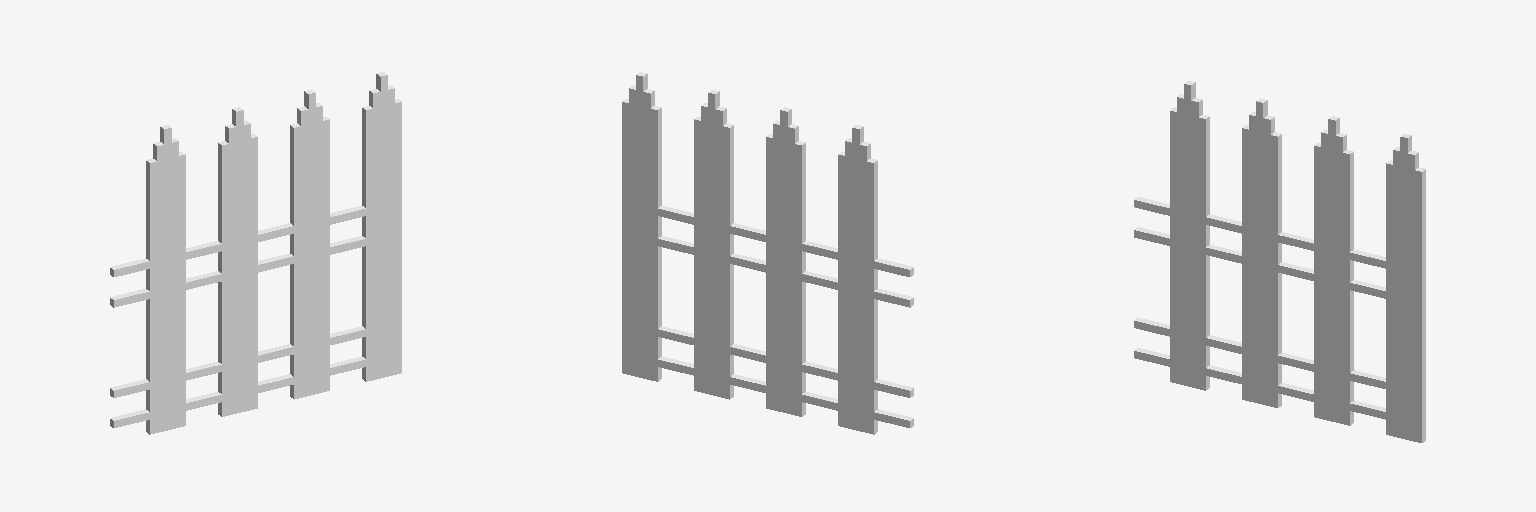
Rendered from barrière.obj.
3 views of the same model, side by side, from view 1: azimuth 30°, elevation 25°; view 2: azimuth 150°, elevation 25°; view 3: azimuth 330°, elevation 25° (orthographic).
Parts seen in each view (by area): view 1: object 1; view 2: object 1; view 3: object 1.
Boxes of the visible parts, x1,y1,x2,y2 form: object 1: [110, 72, 401, 434]; object 1: [622, 72, 913, 434]; object 1: [1134, 81, 1425, 442].
Size of the model in its own units: 4 by 4 by 0.1.